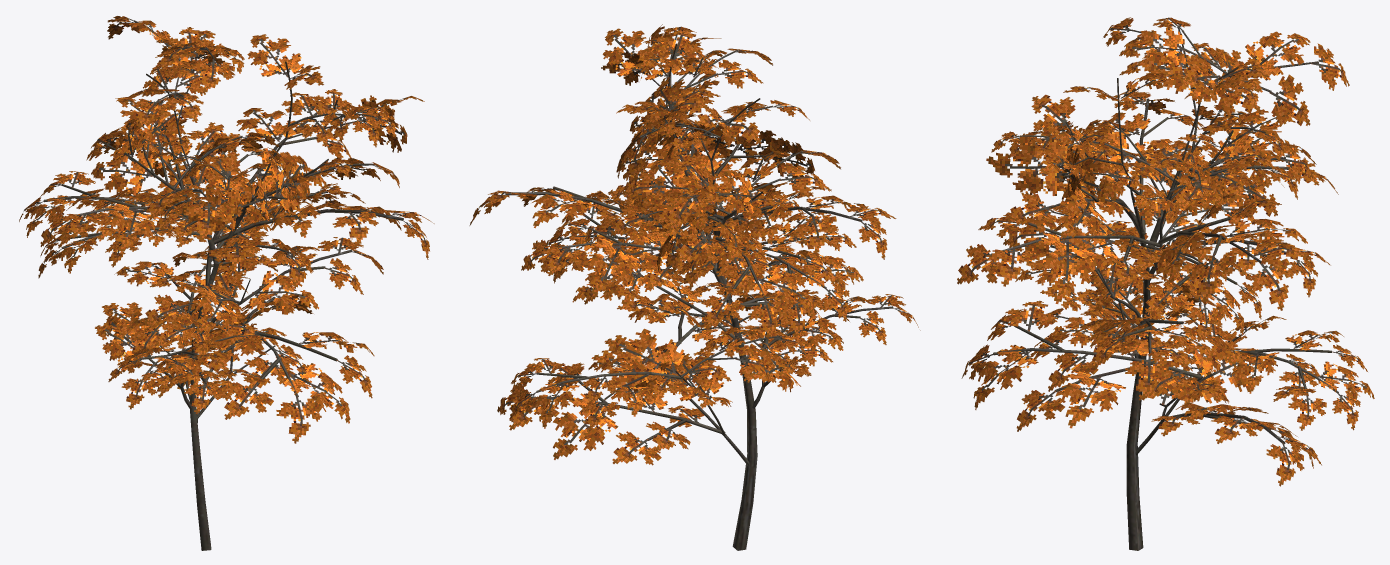
The model's file is Bush2-4.fbx.
The picture shows the model from 3 angles, left to right: view 1: azimuth 30°, elevation 25°; view 2: azimuth 150°, elevation 25°; view 3: azimuth 270°, elevation 25°; orthographic projection. The views are drawn at different scales.
Visible parts, largest first — view 1: Bush2-4_LOD0; view 2: Bush2-4_LOD0; view 3: Bush2-4_LOD0.
Boxes of the visible parts, x1,y1,x2,y2 form: Bush2-4_LOD0: [19, 16, 434, 550]; Bush2-4_LOD0: [469, 24, 920, 550]; Bush2-4_LOD0: [957, 17, 1374, 550].
Size of what is drawn, in the model's own units: 1.73 by 1.65 by 2.26.
